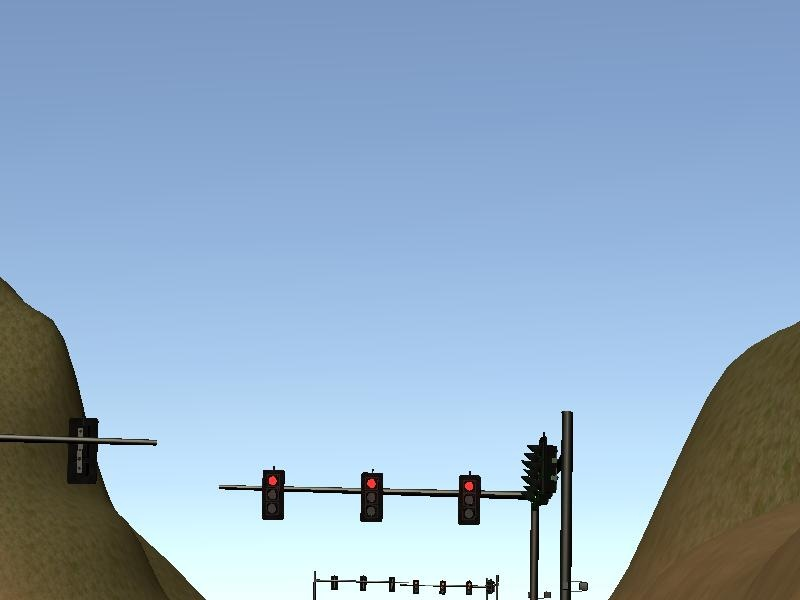red: (357, 470, 386, 523), (260, 467, 287, 521), (457, 471, 481, 528)
